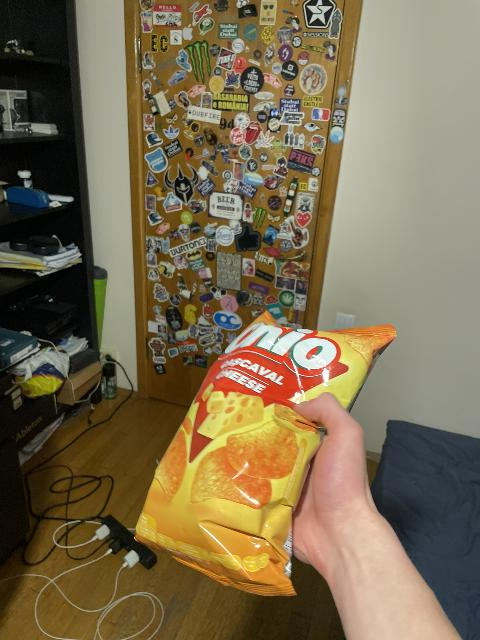Chio Cascaval 125g: (128, 313, 396, 597)
